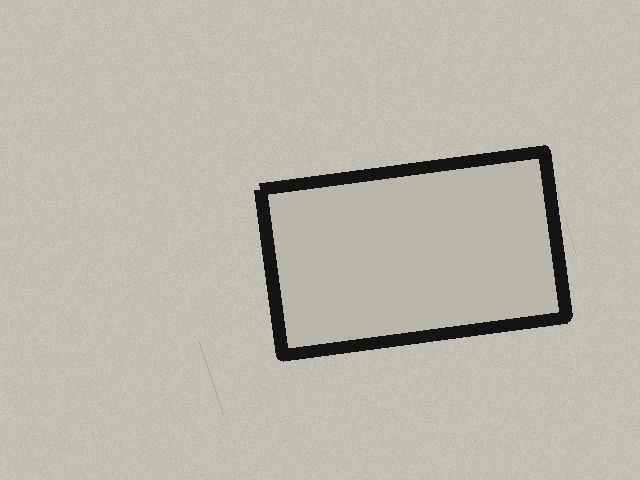parking_area: (260, 151, 566, 355)
